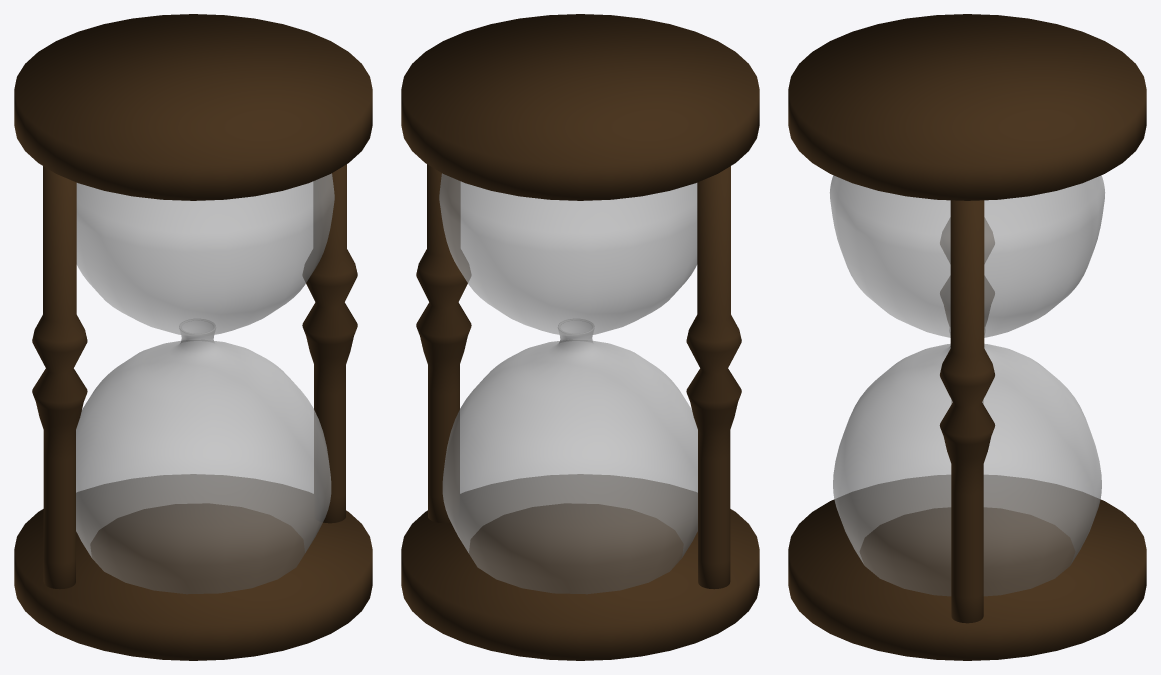
The model's file is hourglass.obj.
The picture shows the model from 3 angles, left to right: view 1: azimuth 30°, elevation 25°; view 2: azimuth 150°, elevation 25°; view 3: azimuth 270°, elevation 25°; orthographic projection.
Visible parts, largest first — view 1: Lathe_NURB, Cylin2, Cylinder, Cylin, Cylin1; view 2: Lathe_NURB, Cylin2, Cylinder, Cylin, Cylin1; view 3: Lathe_NURB, Cylin2, Cylinder, Cylin1, Cylin.
Boxes of the visible parts, x1,y1,x2,y2 form: Lathe_NURB: (76,173,334,594); Cylin2: (14,14,372,200); Cylinder: (14,474,372,660); Cylin: (32,166,87,589); Cylin1: (302,164,357,523); Lathe_NURB: (439,173,697,594); Cylin2: (401,14,759,200); Cylinder: (401,474,759,660); Cylin: (686,166,741,589); Cylin1: (416,164,471,523); Lathe_NURB: (829,175,1105,596); Cylin2: (788,14,1146,200); Cylinder: (788,475,1146,660); Cylin1: (939,200,995,623); Cylin: (940,218,994,403).
Bounding box in the file's own units: 198 × 295 × 193.
